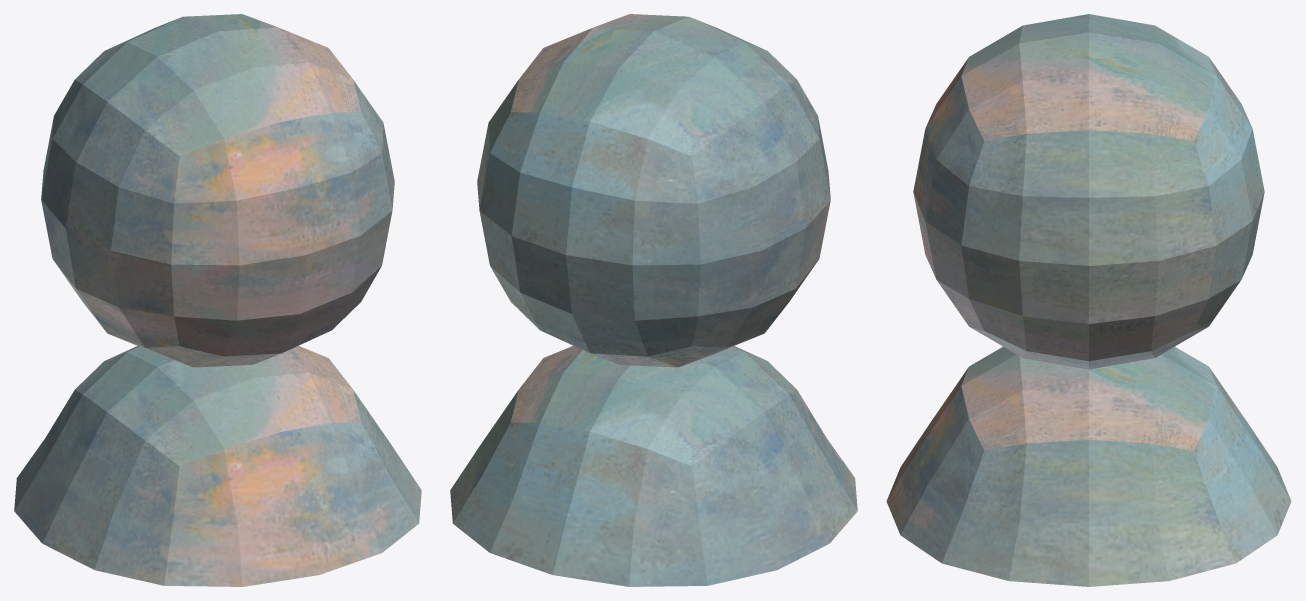
File: Bust.fbx
3 renders of one model, left to right at view 1: azimuth 30°, elevation 25°; view 2: azimuth 150°, elevation 25°; view 3: azimuth 270°, elevation 25°, orthographic.
Visible parts, largest first — view 1: Bust; view 2: Bust; view 3: Bust.
Boxes of the visible parts, <box> form: Bust: <box>14,14,421,586</box>; Bust: <box>450,14,857,586</box>; Bust: <box>886,14,1291,586</box>.
Size of the model in its own units: 117 by 149 by 117.
1 material, 1 textured.
